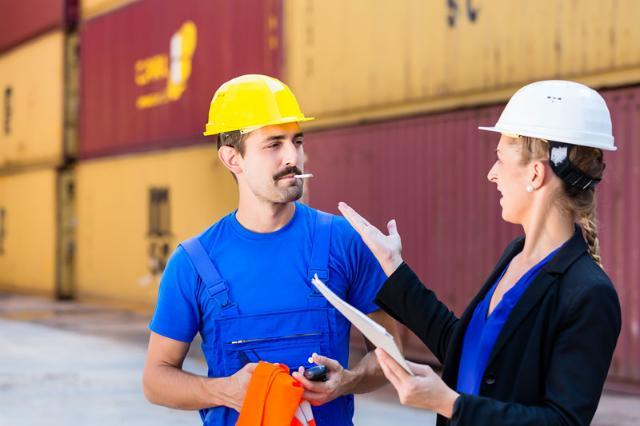SafeDriving: (260, 134, 286, 152)
Smoking: (292, 170, 316, 180)
